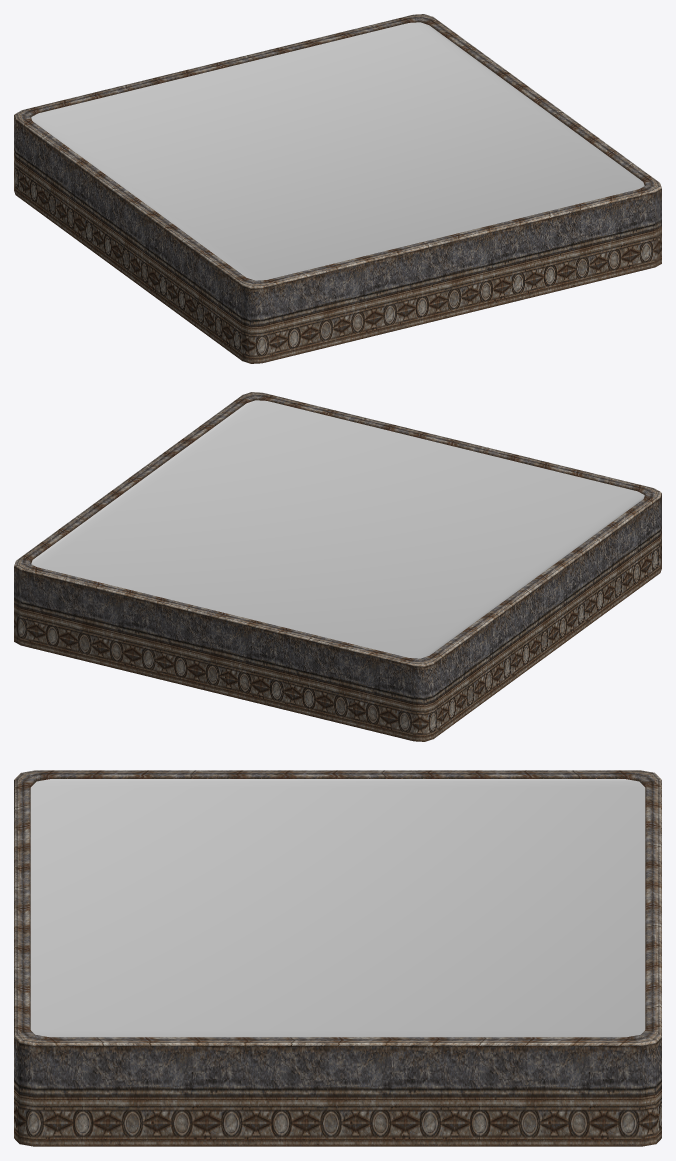
The model's file is prf_env_bld_BaseBuild_Small_x.fbx.
The picture shows the model from 3 angles, top to bottom: view 1: azimuth 30°, elevation 25°; view 2: azimuth 150°, elevation 25°; view 3: azimuth 270°, elevation 25°; orthographic projection. The views are drawn at different scales.
Parts seen in each view (by area): view 1: prf_env_bld_BaseBuild_Small_x; view 2: prf_env_bld_BaseBuild_Small_x; view 3: prf_env_bld_BaseBuild_Small_x.
Part boxes in pixels (x1,y1,x2,y2): prf_env_bld_BaseBuild_Small_x: [14, 14, 661, 363]; prf_env_bld_BaseBuild_Small_x: [14, 392, 661, 741]; prf_env_bld_BaseBuild_Small_x: [14, 770, 661, 1146].
Bounding box in the file's own units: 12 × 2.1 × 12.
